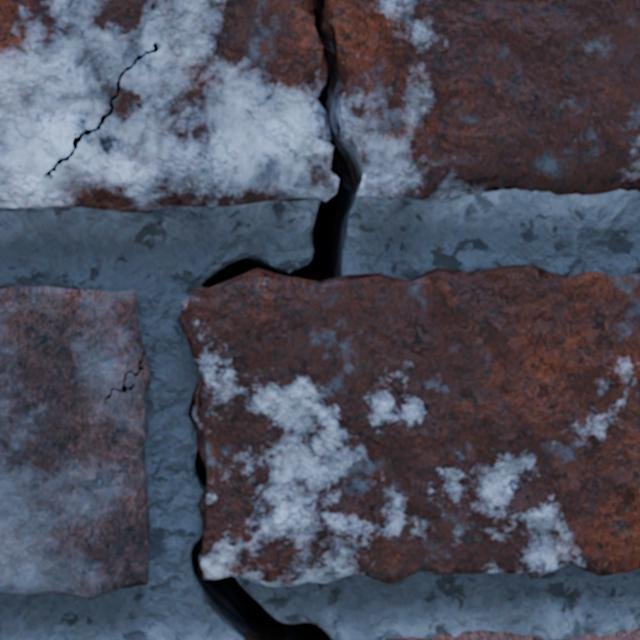broken_brick: (0, 0, 338, 212), (329, 0, 639, 201), (391, 630, 544, 639), (563, 628, 639, 639)
crack: (180, 0, 639, 639), (0, 286, 150, 597), (43, 42, 161, 180), (264, 190, 320, 192), (144, 207, 165, 211), (97, 208, 129, 209)
